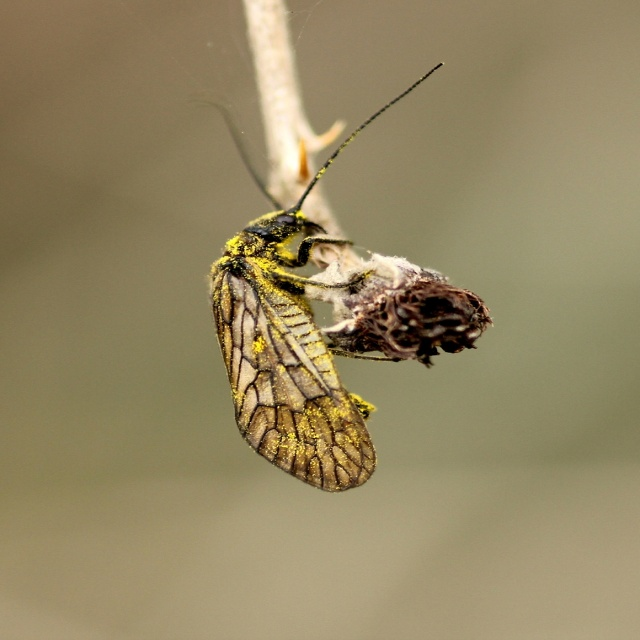Moths and butterflies: (184, 55, 460, 493)
